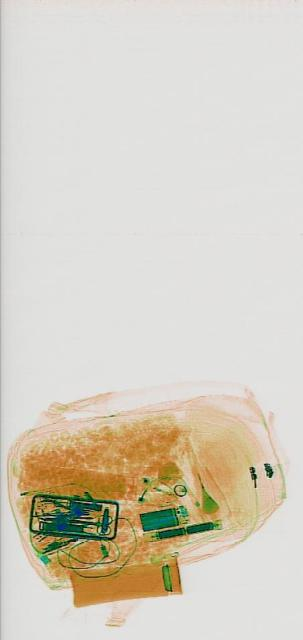Scissors: (73, 508, 111, 536)
